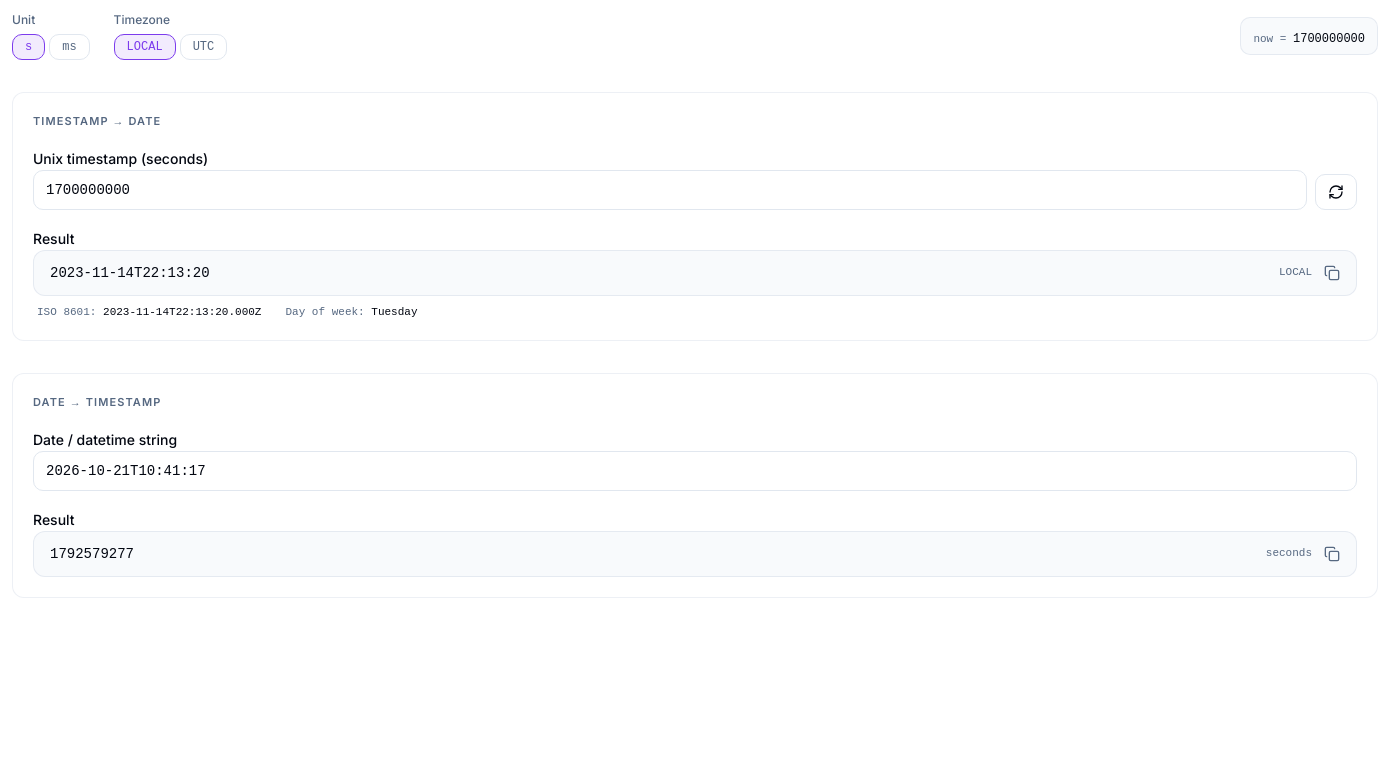
Test: TimestampConverter › shows an error for a non-numeric timestamp
This screenshot has width=1378, height=780.
Replace the text in the field labelled "Unix timestamp (seconds)" with "notanumber" at point(670, 190), box [33, 170, 1307, 210]
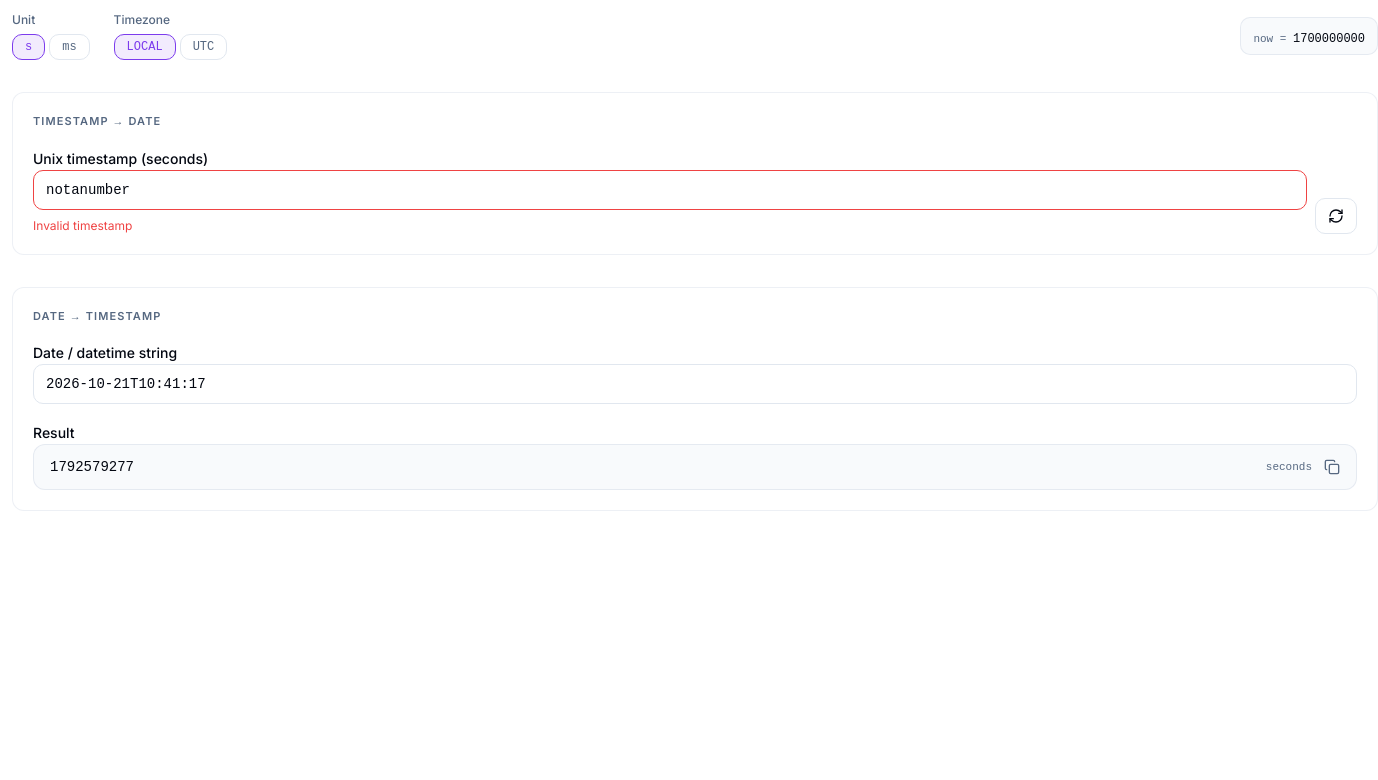
expect the text "Invalid timestamp" is shown: met, box [33, 218, 132, 232]
